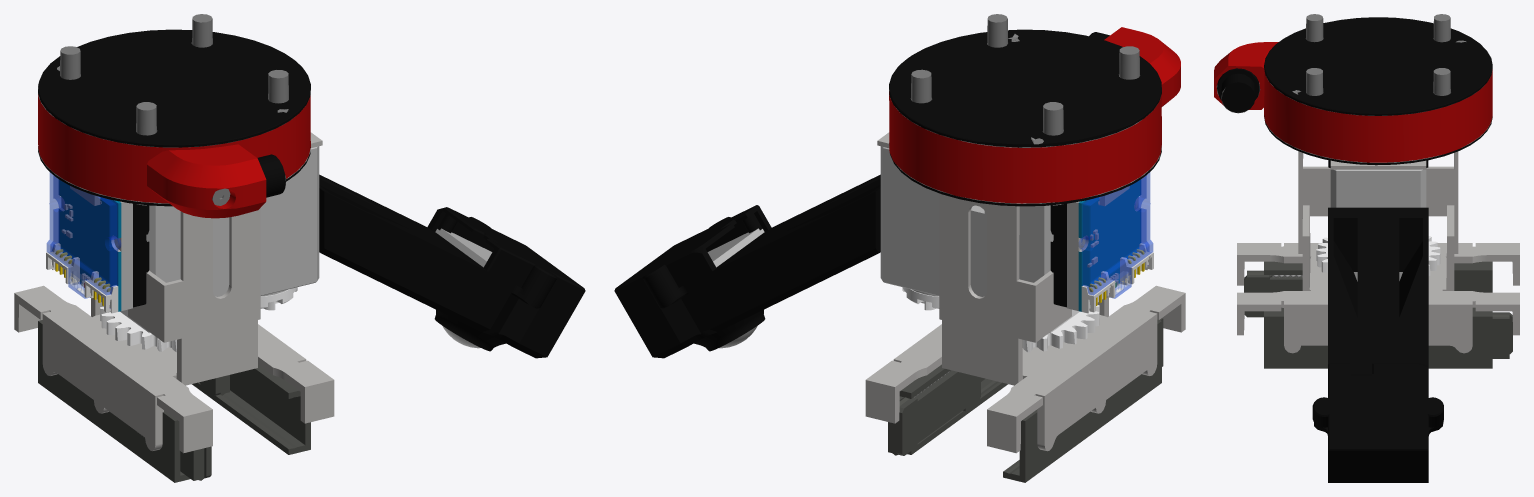
The model's file is hand_base_link.dae.
3 renders of one model, left to right at view 1: azimuth 30°, elevation 25°; view 2: azimuth 150°, elevation 25°; view 3: azimuth 270°, elevation 25°, orthographic. The views are drawn at different scales.
Visible parts, largest first — view 1: FBXASC227FBXASC130FBXASC189FBXASC227FBXASC131FBXASC170FBXASC (×17); view 2: FBXASC227FBXASC130FBXASC189FBXASC227FBXASC131FBXASC170FBXASC (×17); view 3: FBXASC227FBXASC130FBXASC189FBXASC227FBXASC131FBXASC170FBXASC (×11).
Part boxes in pixels (box(x1,y1,x2,y2)): FBXASC227FBXASC130FBXASC189FBXASC227FBXASC131FBXASC170FBXASC (×17): box(14, 14, 585, 482); FBXASC227FBXASC130FBXASC189FBXASC227FBXASC131FBXASC170FBXASC (×17): box(614, 14, 1185, 482); FBXASC227FBXASC130FBXASC189FBXASC227FBXASC131FBXASC170FBXASC (×11): box(1214, 14, 1519, 482).
Size of the model in its own units: 0.1687 by 0.107 by 0.1162.
